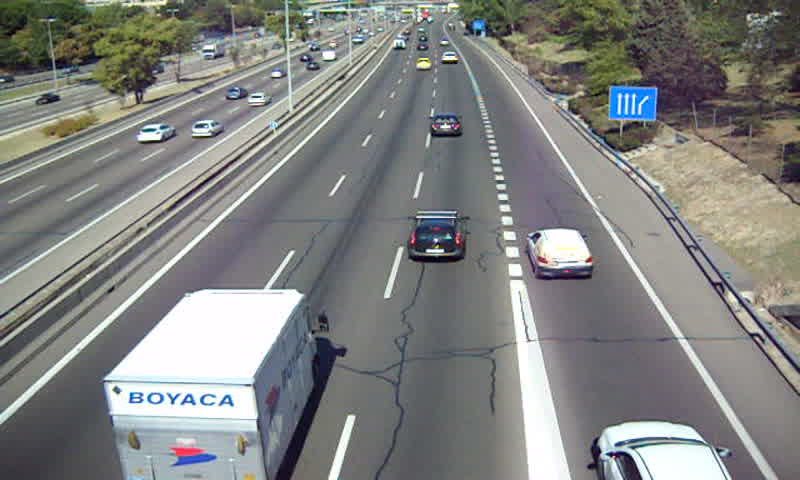car: (526, 228, 594, 278), (408, 210, 464, 262), (428, 112, 462, 135), (415, 56, 432, 73), (440, 50, 459, 64)
small-truck: (101, 289, 315, 480)
